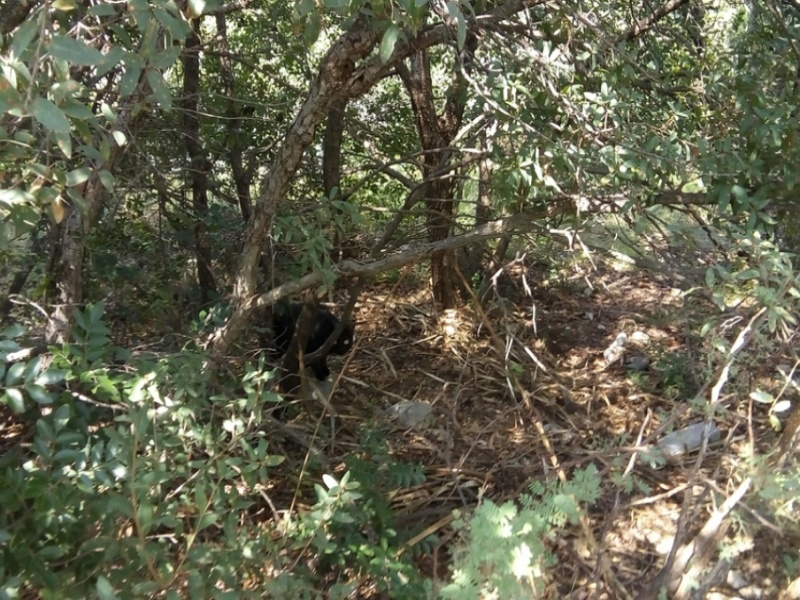cat: (265, 294, 361, 386)
